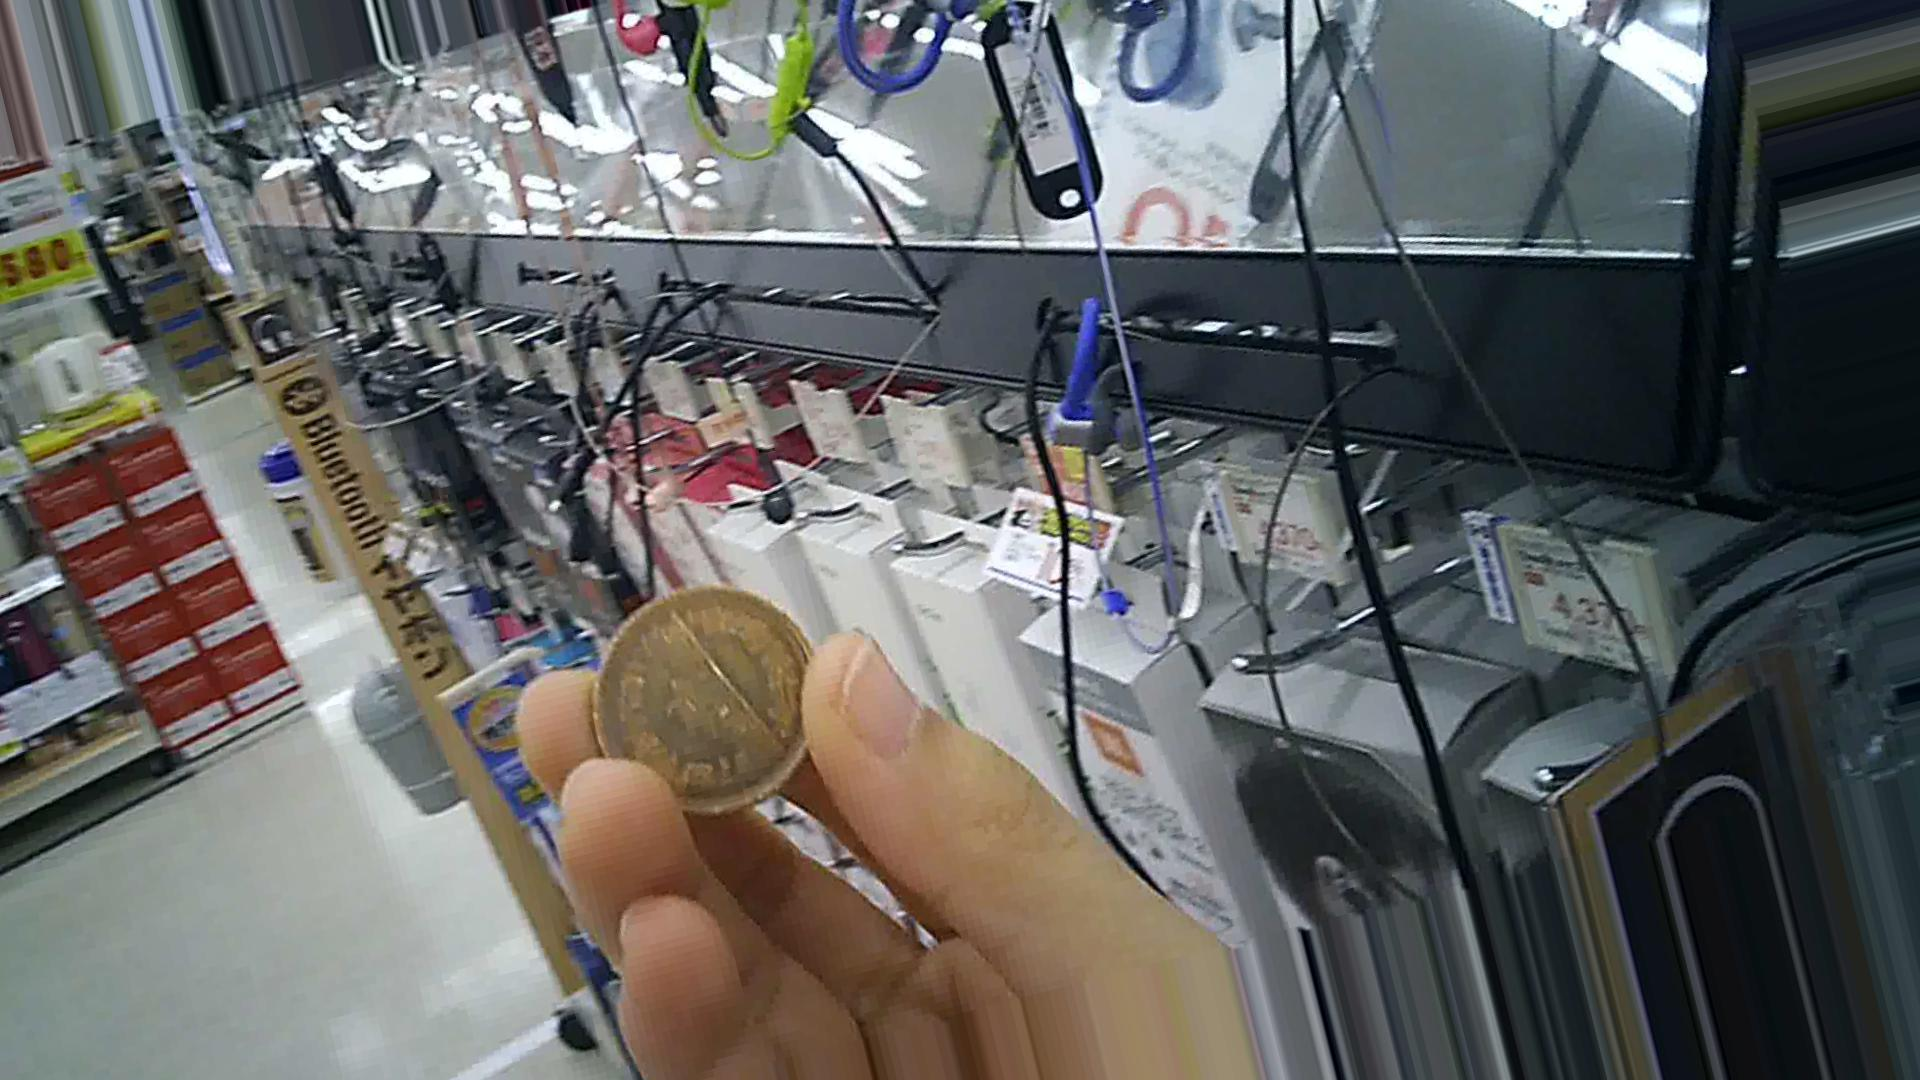10 Yen: (579, 570, 829, 818)
